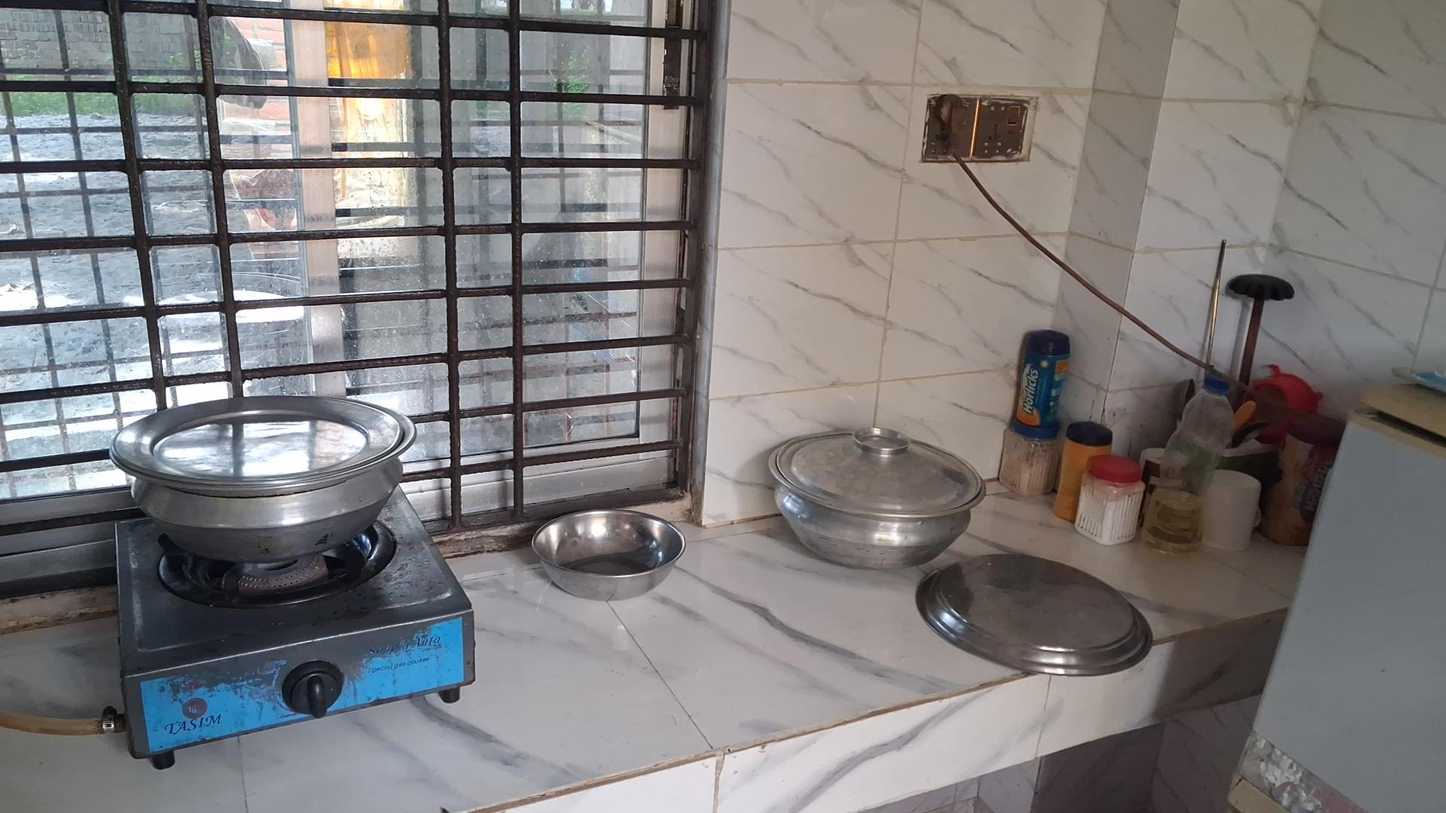Bottle: (1141, 375, 1235, 555)
Bowl: (531, 508, 686, 602)
Cup: (1200, 469, 1261, 553)
Jar: (1011, 322, 1071, 426), (1079, 457, 1136, 544), (1058, 435, 1116, 517), (996, 419, 1057, 495)
Plate: (922, 551, 1149, 677)
Pot: (110, 398, 416, 561), (770, 426, 986, 570)
